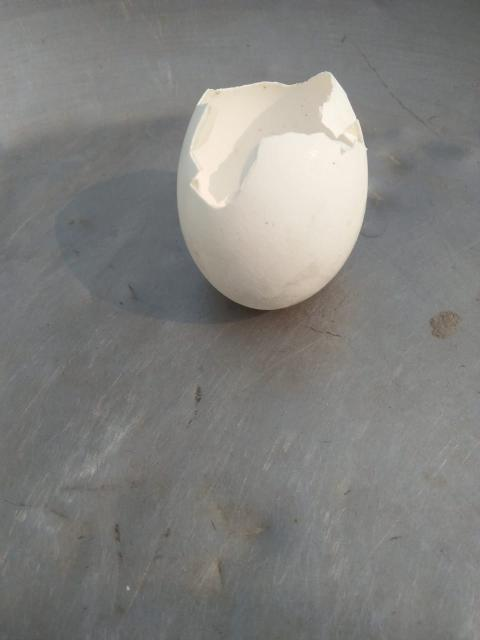Roto: (175, 70, 369, 311)
